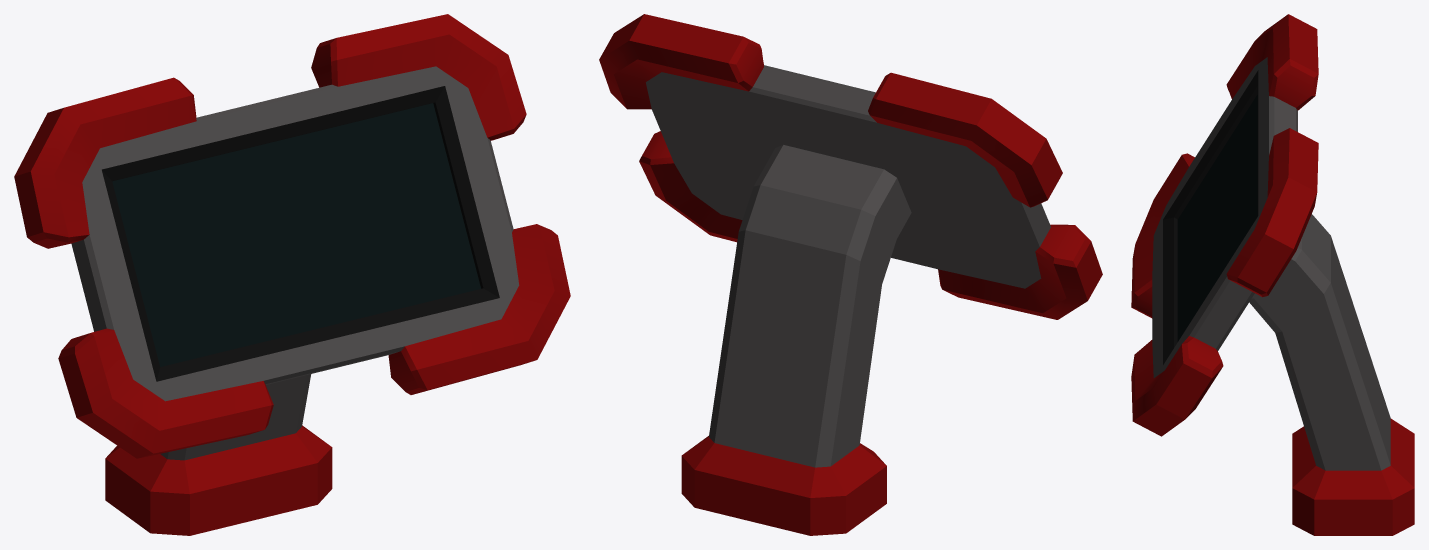
The model's file is Tablet.FBX.
3 renders of one model, left to right at view 1: azimuth 30°, elevation 25°; view 2: azimuth 150°, elevation 25°; view 3: azimuth 270°, elevation 25°, orthographic. The views are drawn at different scales.
Parts seen in each view (by area): view 1: Box001; view 2: Box001; view 3: Box001.
Part boxes in pixels (bbox=[...]): Box001: bbox=[14, 14, 570, 535]; Box001: bbox=[599, 14, 1102, 535]; Box001: bbox=[1131, 14, 1414, 535].
Bounding box in the file's own units: 48.22 × 44.23 × 28.11.
